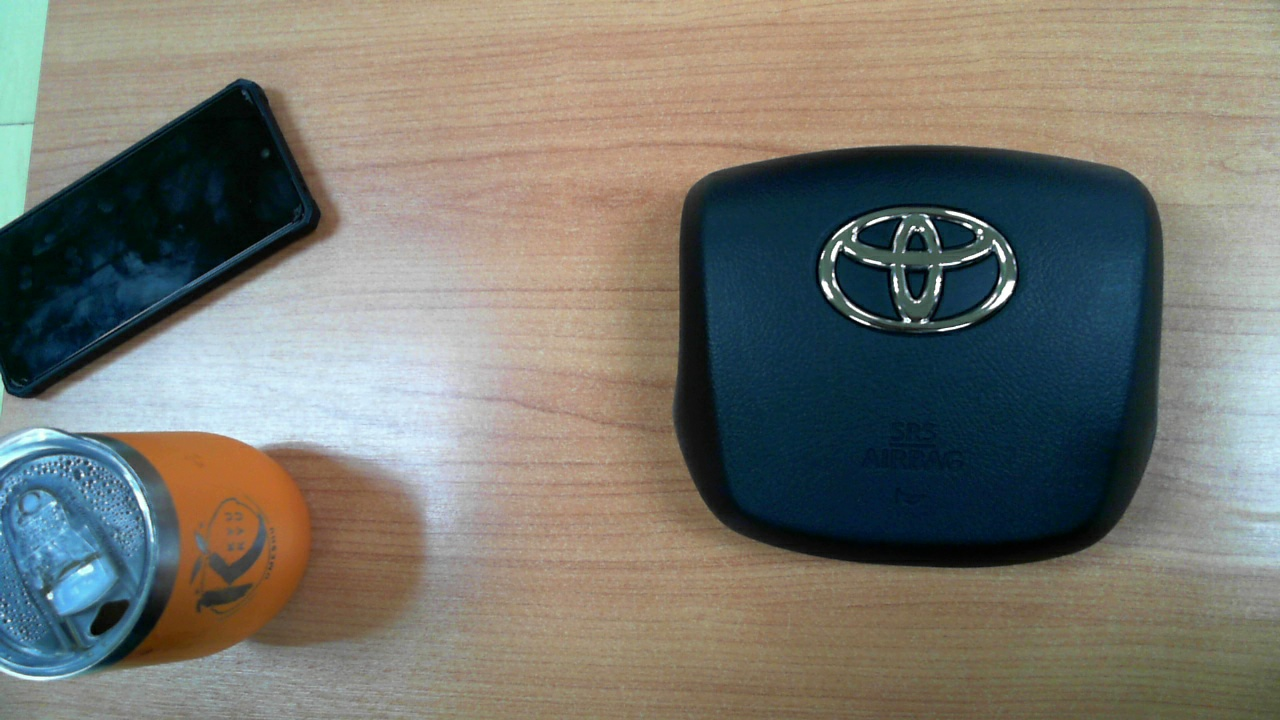Airbag: (639, 126, 1196, 593)
